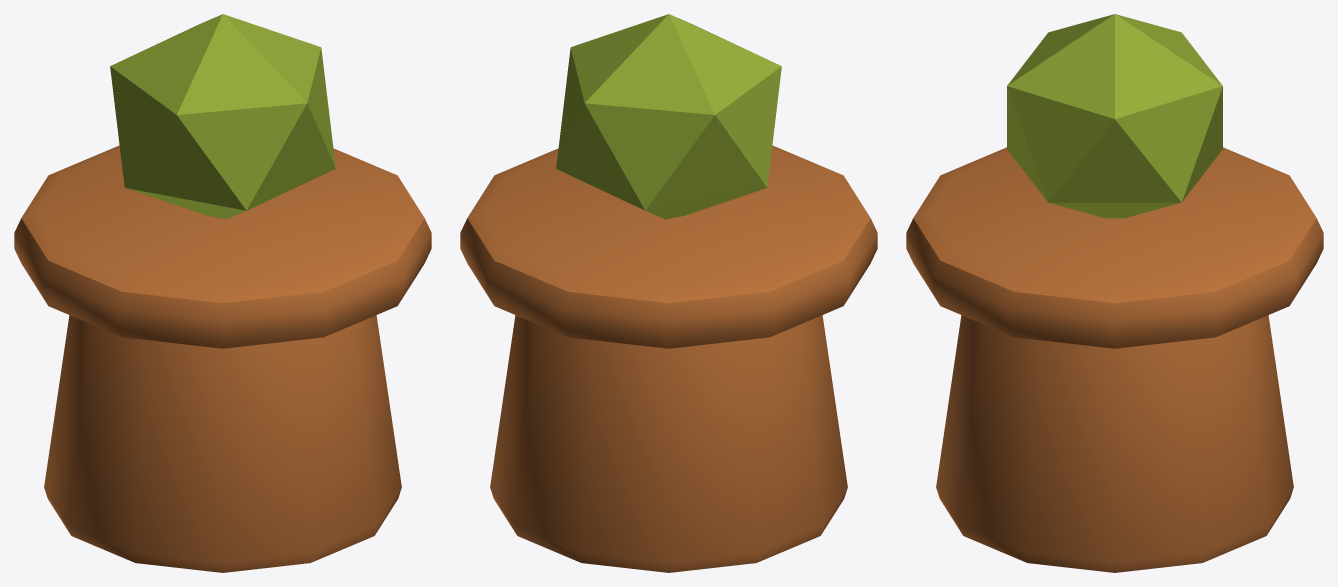
File: prop_pot.glb
3 views of the same model, side by side, from view 1: azimuth 30°, elevation 25°; view 2: azimuth 150°, elevation 25°; view 3: azimuth 270°, elevation 25° (orthographic).
Parts seen in each view (by area): view 1: pot_body, pot_lip, pot_plant; view 2: pot_body, pot_lip, pot_plant; view 3: pot_body, pot_lip, pot_plant.
Boxes of the visible parts, bbox=[...] form: pot_body: bbox=[44, 315, 401, 572]; pot_lip: bbox=[14, 145, 431, 348]; pot_plant: bbox=[110, 14, 335, 219]; pot_body: bbox=[490, 315, 847, 572]; pot_lip: bbox=[460, 145, 877, 348]; pot_plant: bbox=[556, 14, 781, 219]; pot_body: bbox=[936, 315, 1293, 572]; pot_lip: bbox=[906, 147, 1323, 348]; pot_plant: bbox=[1007, 14, 1222, 218].
Size of the model in its own units: 0.46 by 0.596 by 0.46.
